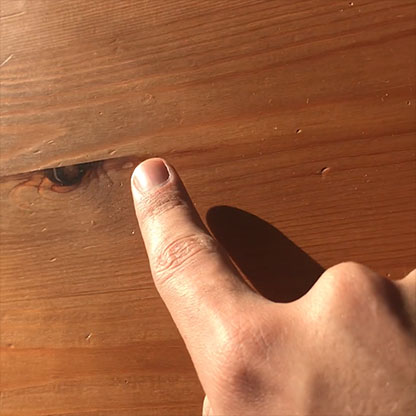fingertip: (118, 154, 180, 200)
